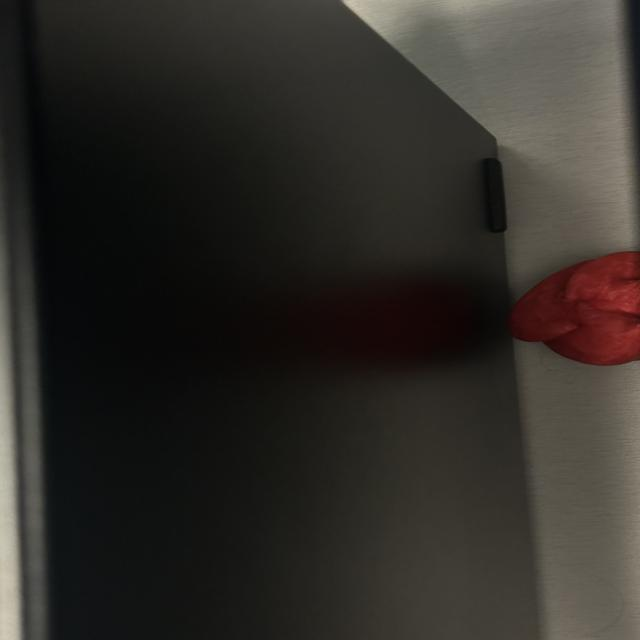fire: (507, 248, 638, 367)
